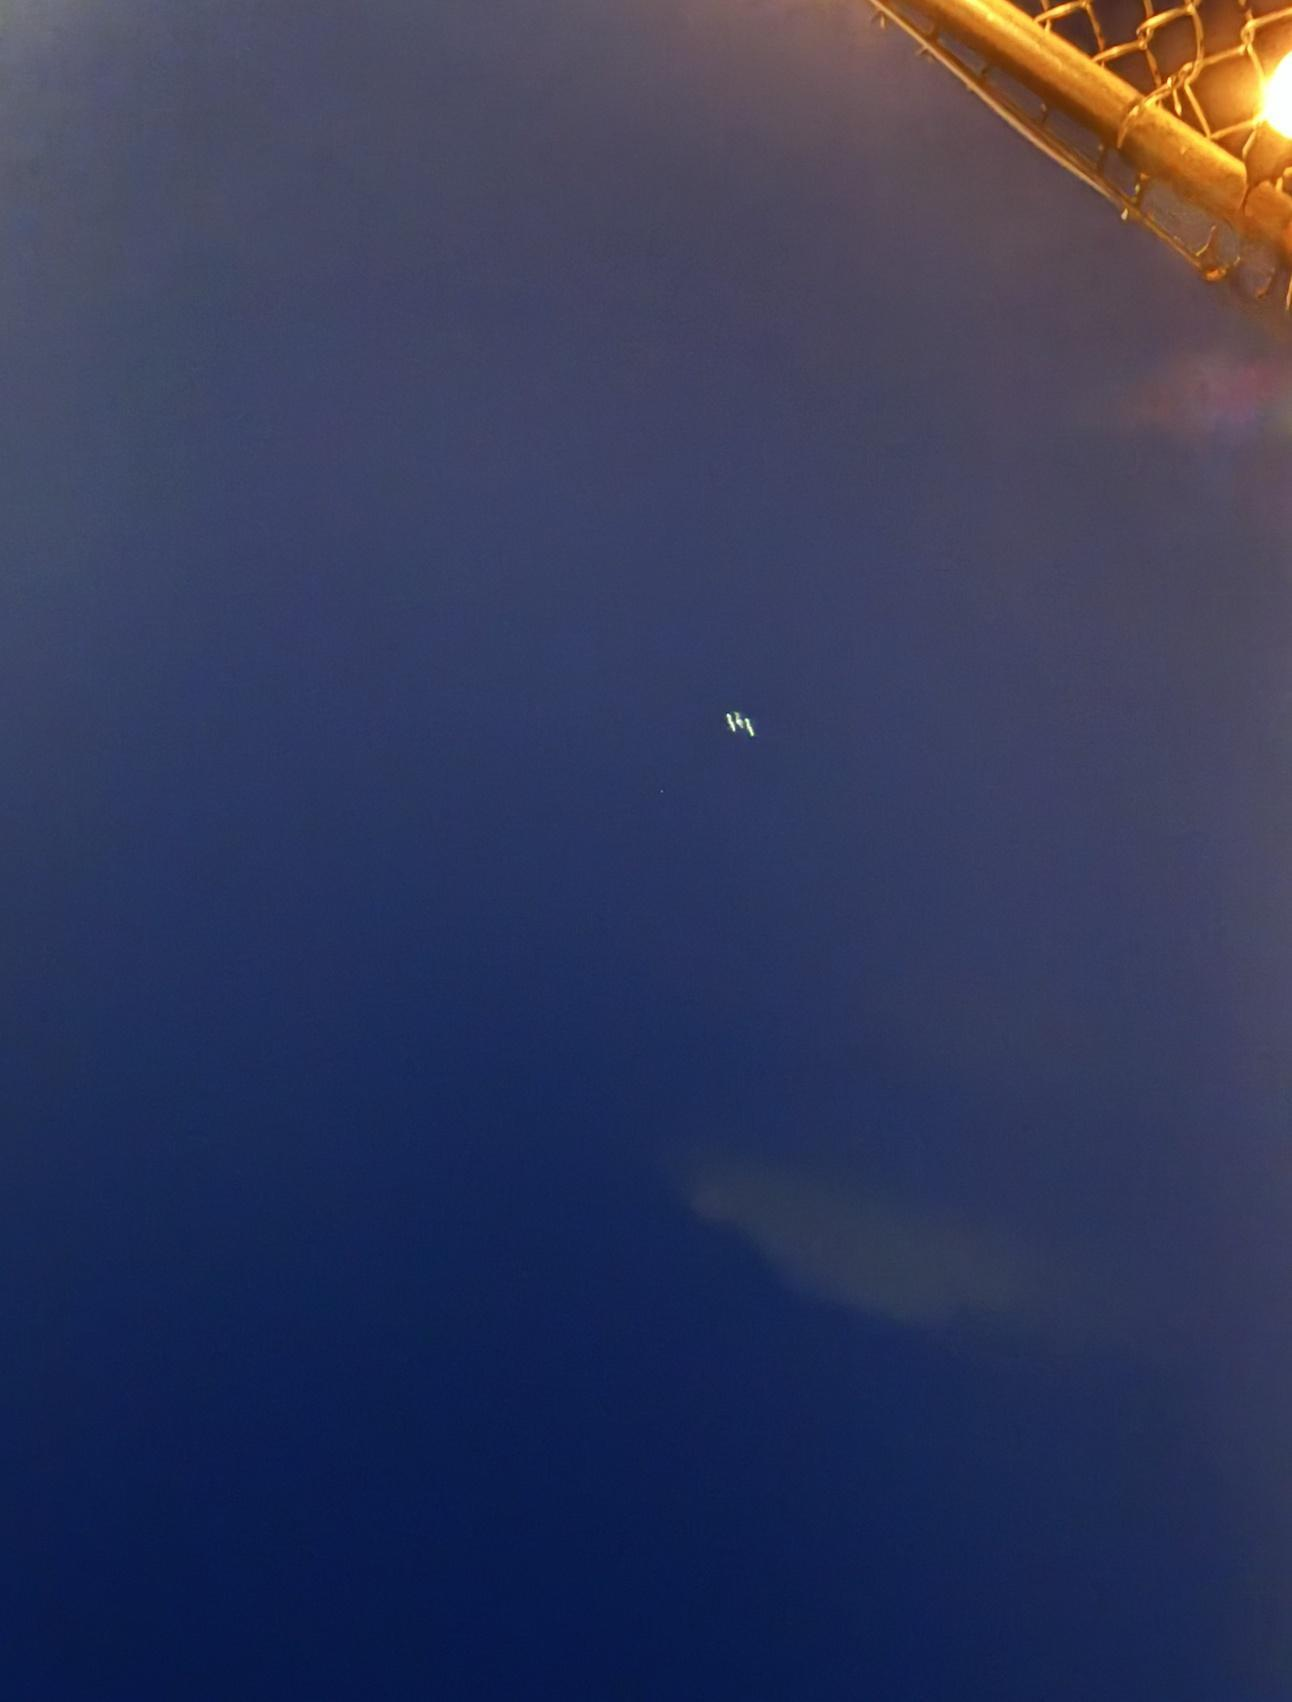Plane: (685, 694, 793, 745)
